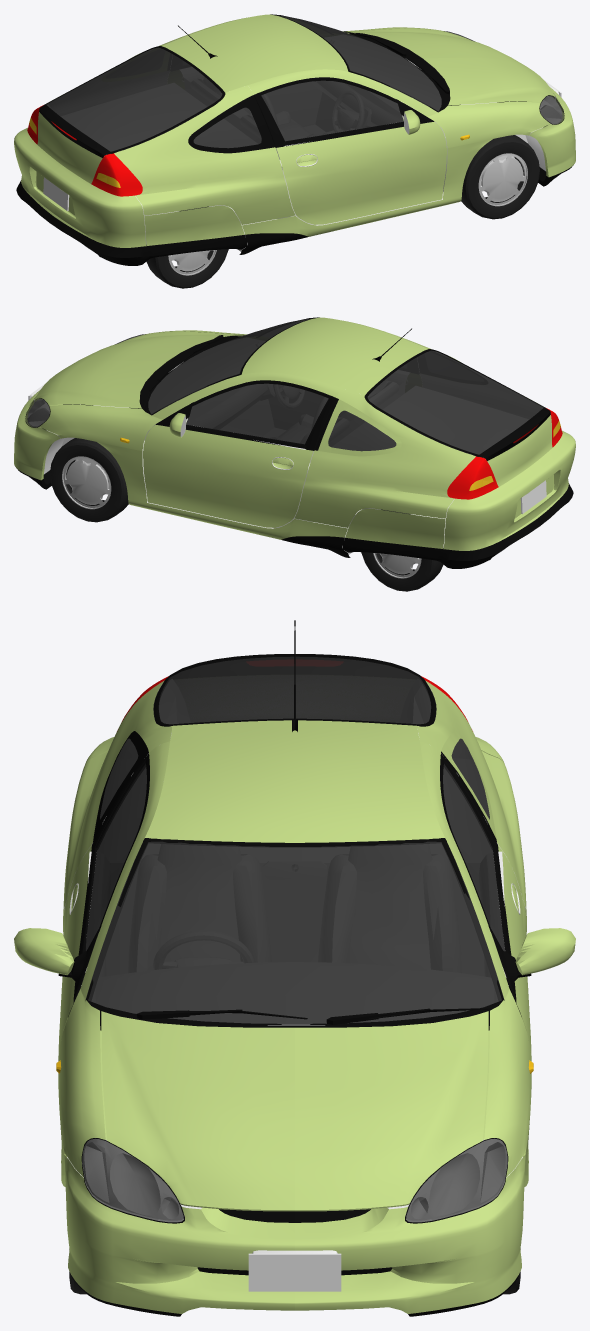
The model's file is honda_insight.dae.
The picture shows the model from 3 angles, top to bottom: view 1: azimuth 30°, elevation 25°; view 2: azimuth 150°, elevation 25°; view 3: azimuth 270°, elevation 25°; orthographic projection. The views are drawn at different scales.
Parts seen in each view (by area): view 1: Entity10, Entity18, rear-glas0, roof, Entity40, Entity22, Entity02, front-gla1, f-side02, tire03, Entity20, Entity01 (+26 smaller); view 2: Entity09, Entity17, rear-glas0, roof, Entity39, Entity21, Entity01, front-gla1, f-side01, tire01, Entity19, Entity02 (+26 smaller); view 3: front-gla1, Entity01, Entity02, roof, Entity03, Entity04, rear-glas0, f-side01, f-side02, Entity105, Entity106, Entity17 (+16 smaller).
Boxes of the visible parts, bbox=[...] form: Entity10: bbox=[276, 121, 446, 224]; Entity18: bbox=[114, 85, 295, 224]; rear-glas0: bbox=[46, 47, 222, 151]; roof: bbox=[162, 14, 348, 92]; Entity40: bbox=[261, 80, 403, 141]; Entity22: bbox=[50, 165, 146, 247]; Entity02: bbox=[423, 57, 554, 105]; front-gla1: bbox=[277, 15, 441, 111]; f-side02: bbox=[427, 101, 549, 148]; tire03: bbox=[461, 135, 539, 219]; Entity20: bbox=[144, 205, 244, 245]; Entity01: bbox=[347, 28, 531, 69]; Entity09: bbox=[143, 424, 313, 527]; Entity17: bbox=[294, 388, 475, 527]; rear-glas0: bbox=[367, 350, 543, 454]; roof: bbox=[241, 317, 427, 395]; Entity39: bbox=[186, 383, 328, 444]; Entity21: bbox=[443, 468, 539, 550]; Entity01: bbox=[35, 360, 166, 408]; front-gla1: bbox=[148, 318, 314, 414]; f-side01: bbox=[40, 404, 162, 451]; tire01: bbox=[50, 438, 128, 522]; Entity19: bbox=[345, 508, 445, 548]; Entity02: bbox=[58, 331, 242, 372]; front-gla1: bbox=[85, 839, 504, 1023]; Entity01: bbox=[295, 1011, 488, 1211]; Entity02: bbox=[101, 1011, 294, 1211]; roof: bbox=[145, 720, 444, 842]; Entity03: bbox=[295, 1154, 525, 1313]; Entity04: bbox=[64, 1154, 294, 1313]; rear-glas0: bbox=[153, 656, 436, 724]; f-side01: bbox=[483, 989, 531, 1176]; f-side02: bbox=[58, 989, 106, 1176]; Entity105: bbox=[406, 1139, 507, 1222]; Entity106: bbox=[82, 1139, 183, 1222]; Entity17: bbox=[418, 680, 526, 931].
Size of the model in its own units: 3953 by 2003 by 1637.
